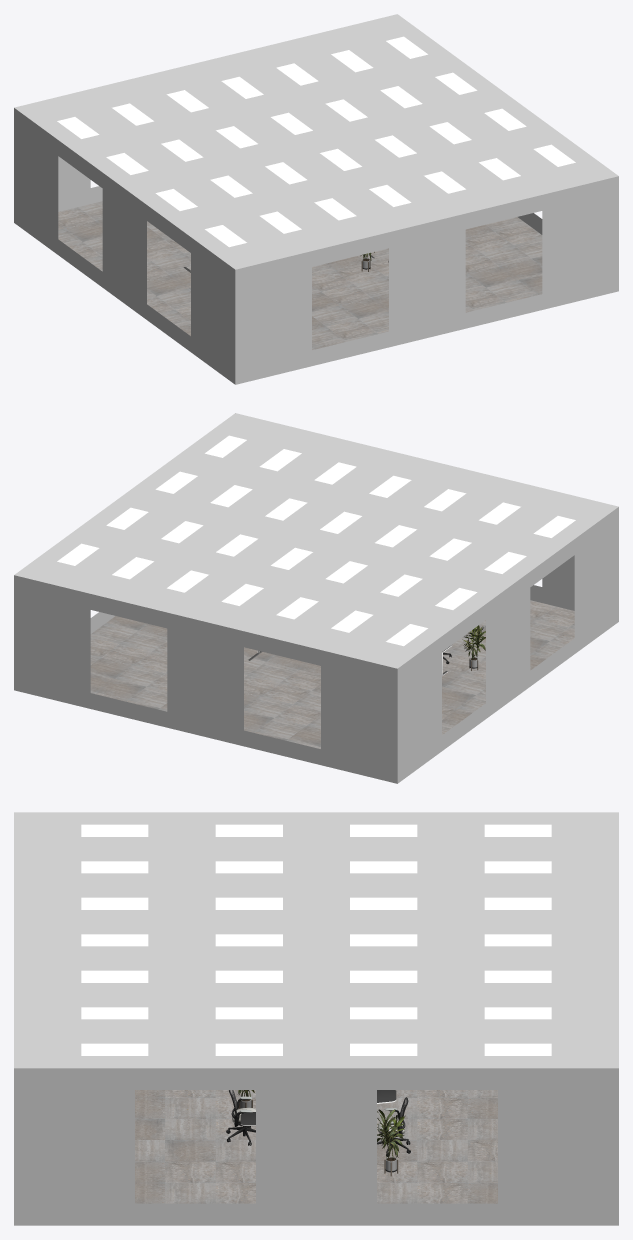
File: reflections.glb
3 views of the same model, one above another, from view 1: azimuth 30°, elevation 25°; view 2: azimuth 150°, elevation 25°; view 3: azimuth 270°, elevation 25° (orthographic). The views are drawn at different scales.
Parts seen in each view (by area): view 1: Plane.002, Plane.001, Plane; view 2: Plane.002, Plane.001, Plane, Dracaena_01_baked.001; view 3: Plane.002, Plane.001, Plane, Dracaena_01_baked.002, Steelcase_Series1_Coconut.003.
Part boxes in pixels (x1,y1,x2,y2): Plane.002: (14,14,618,269); Plane.001: (14,108,618,384); Plane: (58,201,542,349); Plane.002: (14,413,618,668); Plane.001: (14,507,618,783); Plane: (90,600,574,748); Dracaena_01_baked.001: (462,625,485,670); Plane.002: (14,812,618,1068); Plane.001: (14,1068,618,1225); Plane: (135,1090,497,1203); Dracaena_01_baked.002: (377,1109,405,1176); Steelcase_Series1_Coconut.003: (226,1090,255,1145).
Size of the model in its own units: 10.6 by 3.04 by 10.6.
8 materials, 6 textured.
